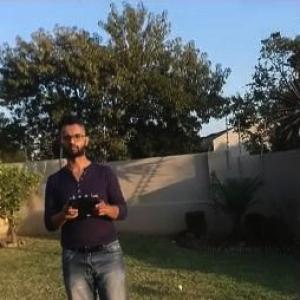follow: (40, 106, 143, 299)
